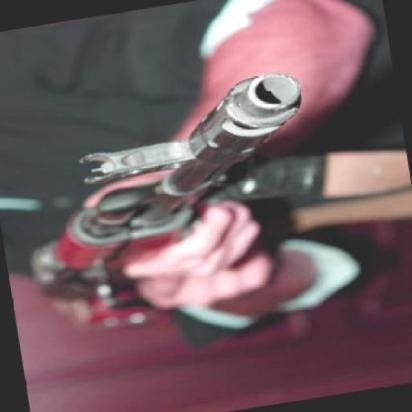Gun: (7, 56, 347, 319)
